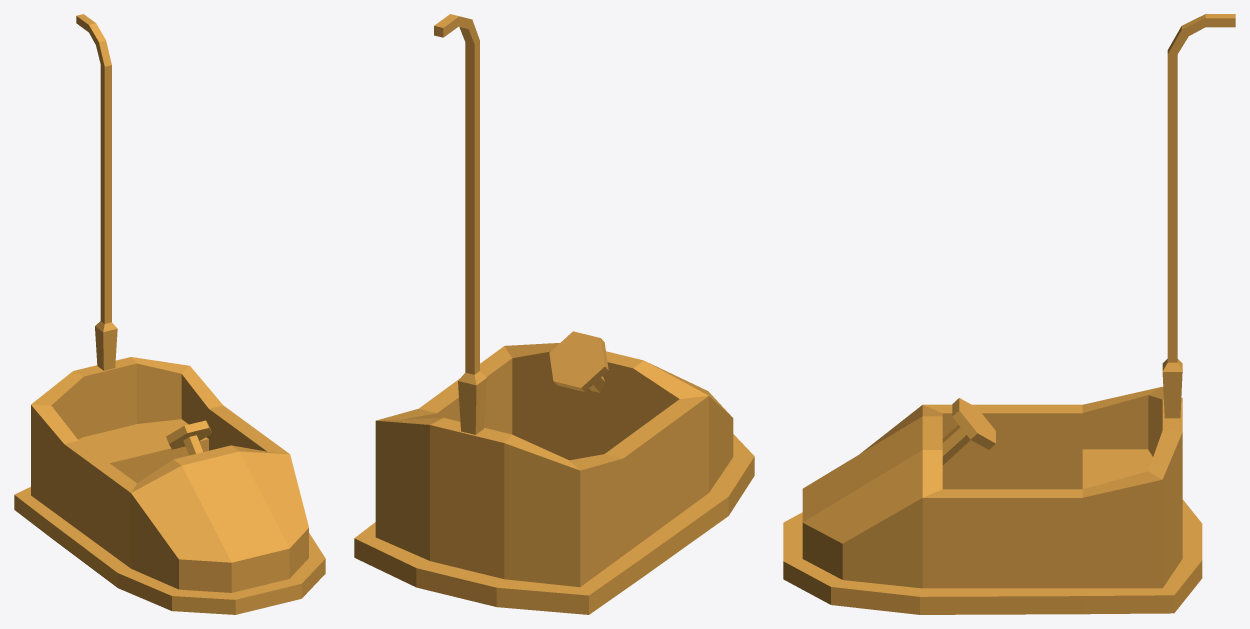
File: bumper-car_blue.glb
3 renders of one model, left to right at view 1: azimuth 30°, elevation 25°; view 2: azimuth 150°, elevation 25°; view 3: azimuth 270°, elevation 25°, orthographic. The views are drawn at different scales.
Visible parts, largest first — view 1: bumper-car_blue; view 2: bumper-car_blue; view 3: bumper-car_blue.
Part boxes in pixels (x1,y1,x2,y2): bumper-car_blue: [14, 14, 325, 614]; bumper-car_blue: [354, 14, 754, 614]; bumper-car_blue: [783, 14, 1235, 614].
Size of the model in its own units: 1.3 by 3 by 2.26.
